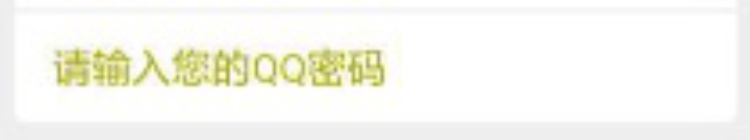EditText: (1, 1, 749, 139)
